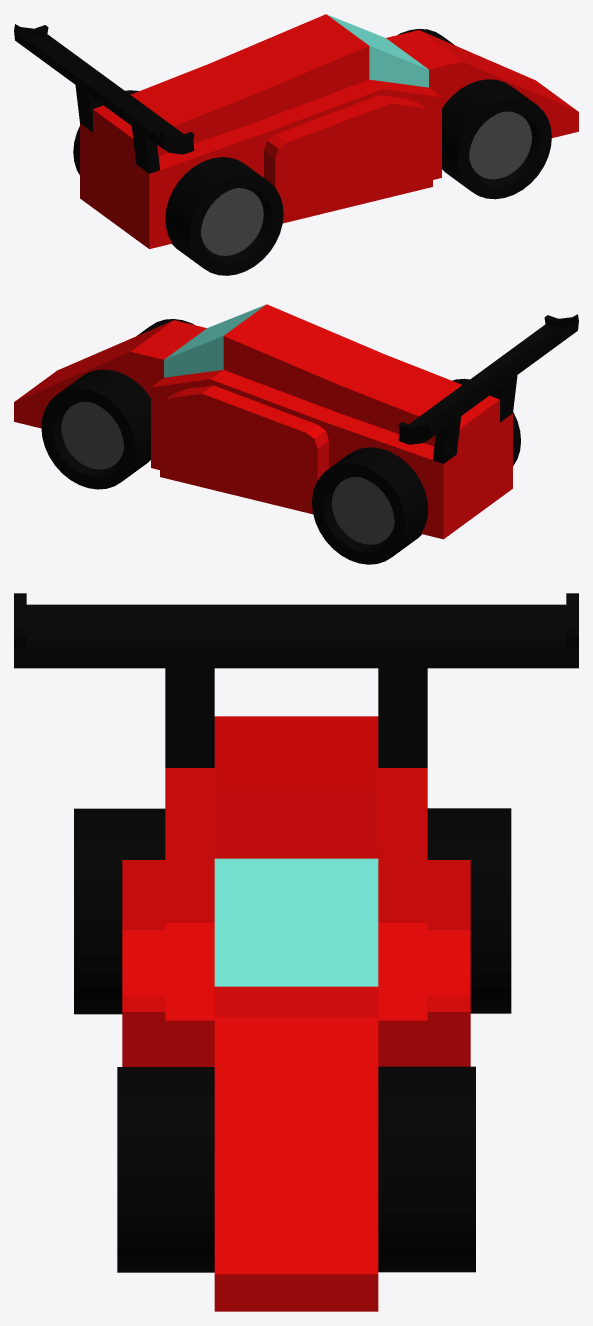
Rendered from Red Car.glb.
3 views of the same model, one above another, from view 1: azimuth 30°, elevation 25°; view 2: azimuth 150°, elevation 25°; view 3: azimuth 270°, elevation 25° (orthographic). The views are drawn at different scales.
Visible parts, largest first — view 1: Cube.022; view 2: Cube.022; view 3: Cube.022.
Part boxes in pixels (<box>): Cube.022: <box>14,14,578,275</box>; Cube.022: <box>14,304,578,564</box>; Cube.022: <box>14,593,578,1311</box>.
Size of the model in its own units: 3.23 by 1.15 by 1.78.
